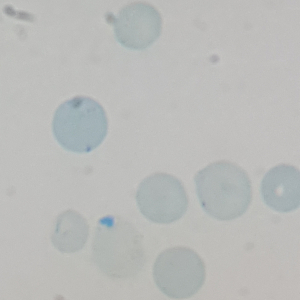erythrocyte: (89, 213, 149, 281), (151, 245, 208, 300), (134, 172, 191, 225), (110, 1, 165, 51), (259, 163, 300, 214), (51, 208, 91, 255)
punctate reticulocyte: (193, 160, 255, 223), (50, 95, 110, 154)
